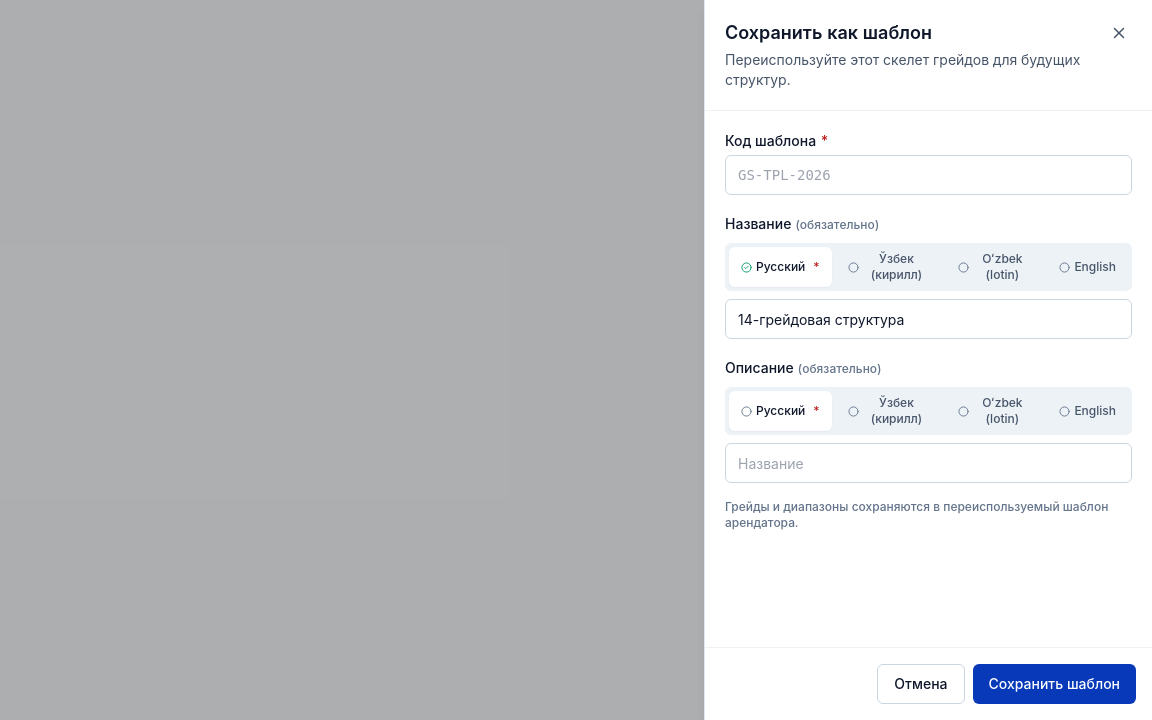
Test case: SaveAsGradeTemplateDrawer (FE-10) › requires a template code
Click the button "Сохранить шаблон". click: (1054, 684)
box: [972, 664, 1136, 704]
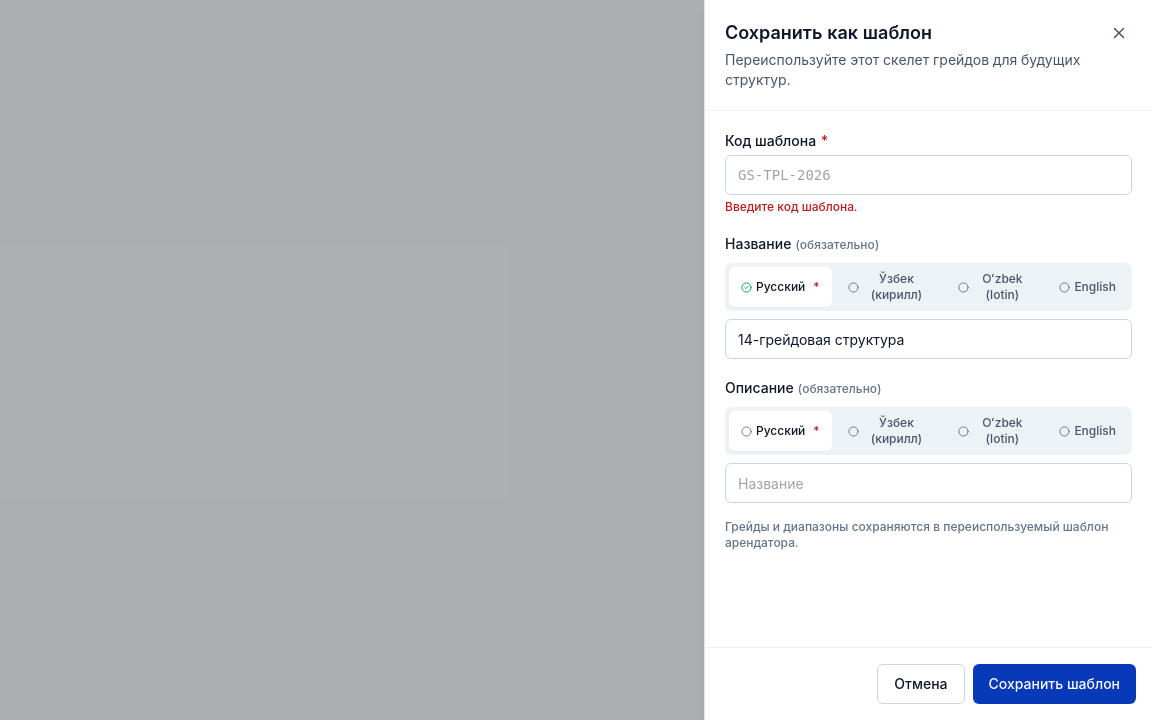
Now the message "Введите код шаблона." is shown, box [725, 199, 857, 214]
